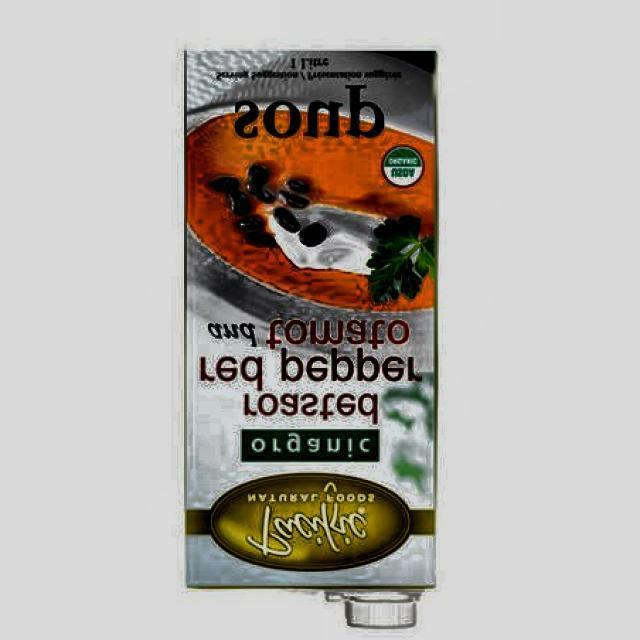cardboard: (182, 51, 438, 606)
